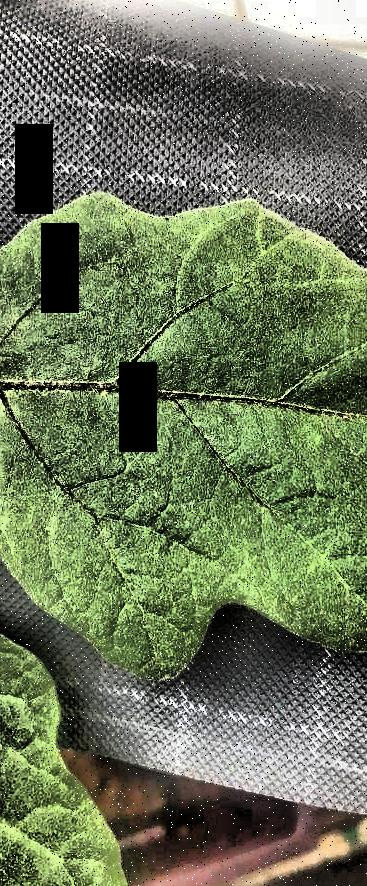HEALTHY: (61, 0, 367, 639)
